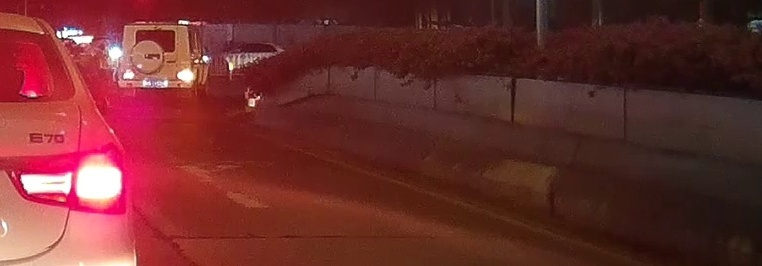L_light: (119, 70, 137, 81)
R_light: (176, 70, 193, 81)
T_light: (150, 30, 162, 34)
night-right: (117, 22, 194, 105)
